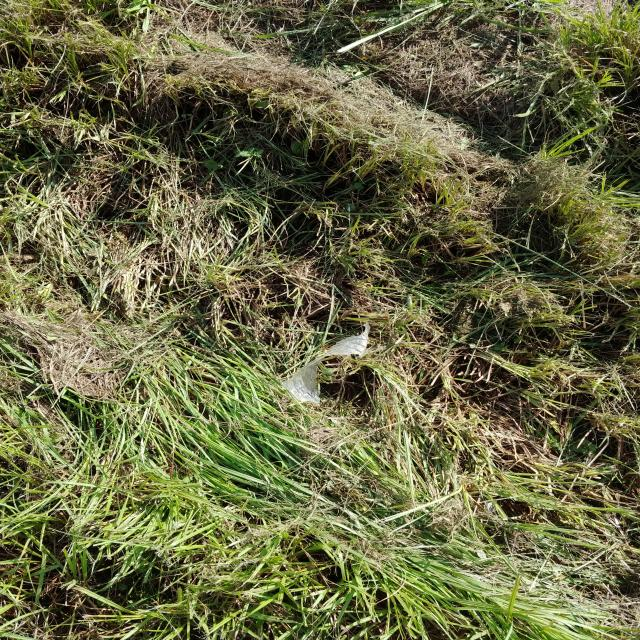litter: (283, 326, 371, 399)
